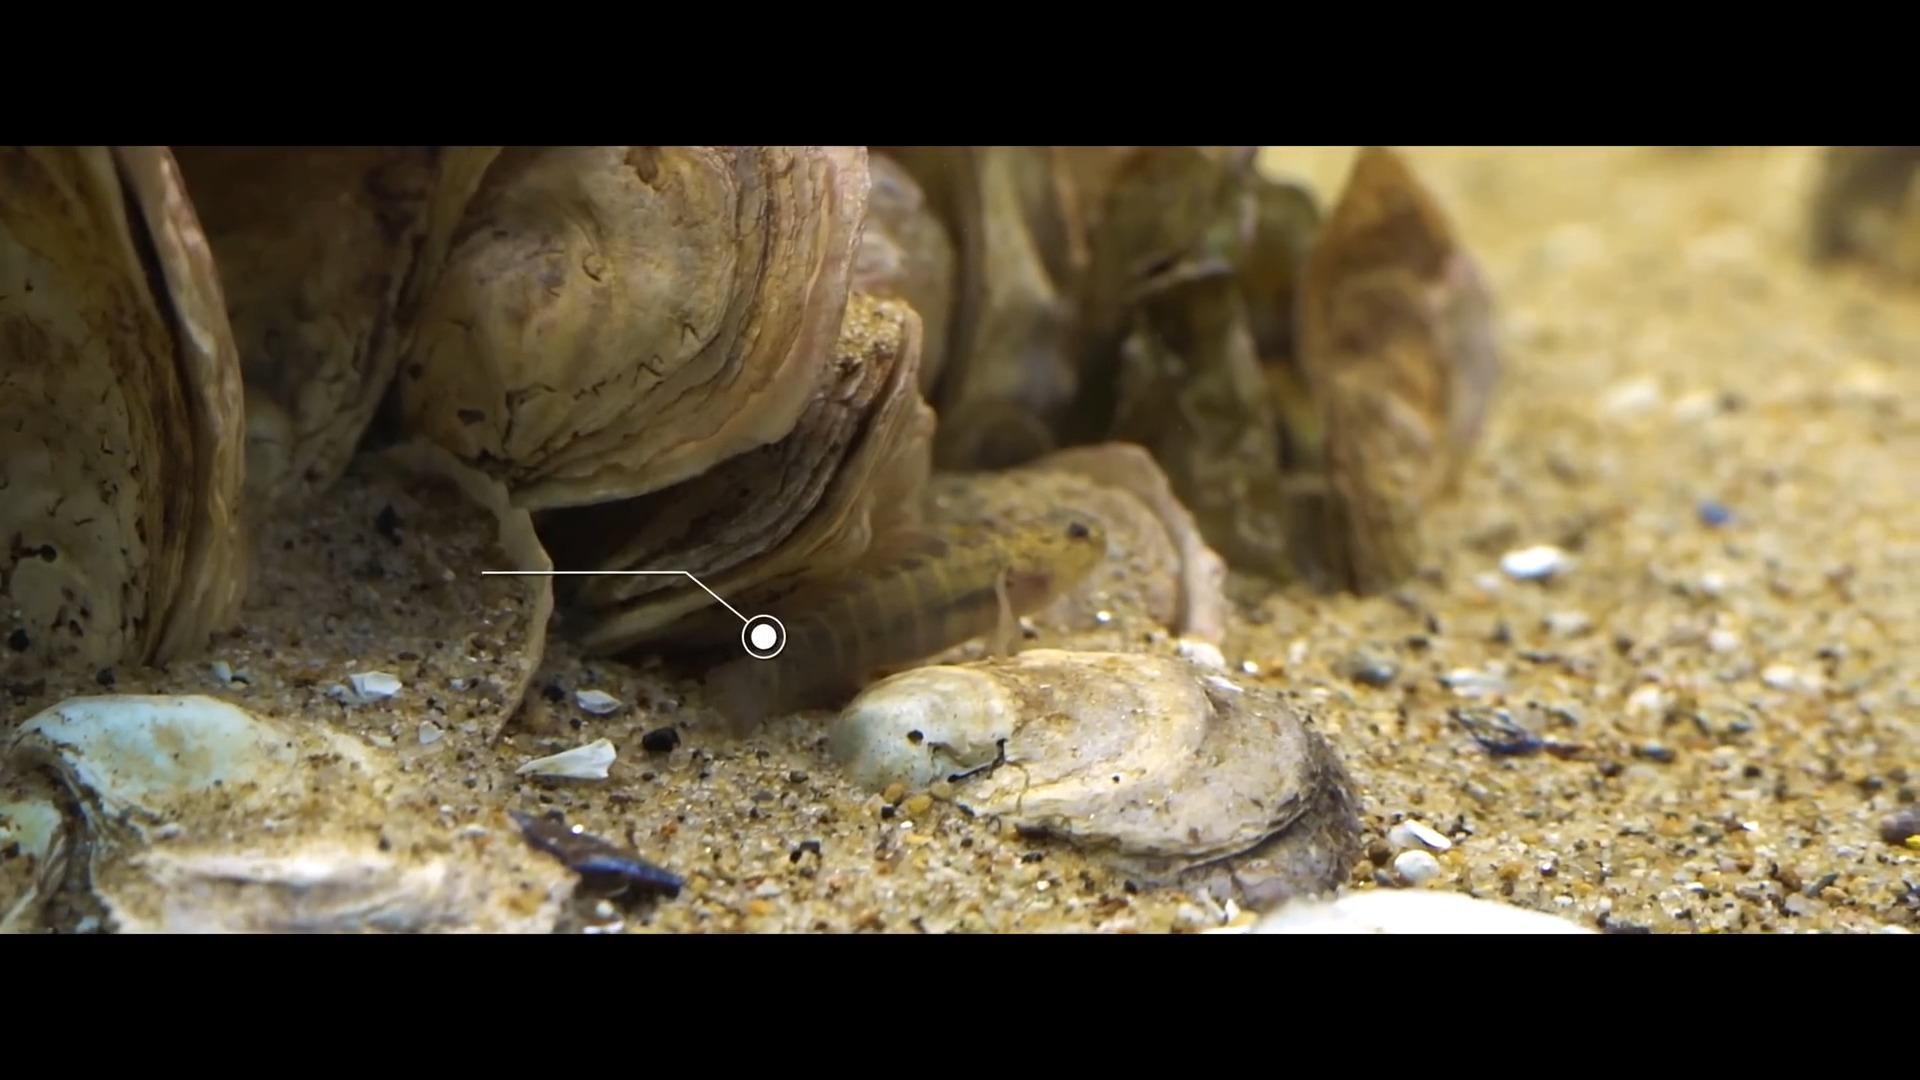Oyster: (400, 148, 868, 512), (836, 649, 1358, 905), (0, 146, 245, 673), (8, 684, 527, 931), (178, 152, 464, 524), (1302, 149, 1503, 591), (882, 142, 1095, 463), (989, 438, 1232, 645)
